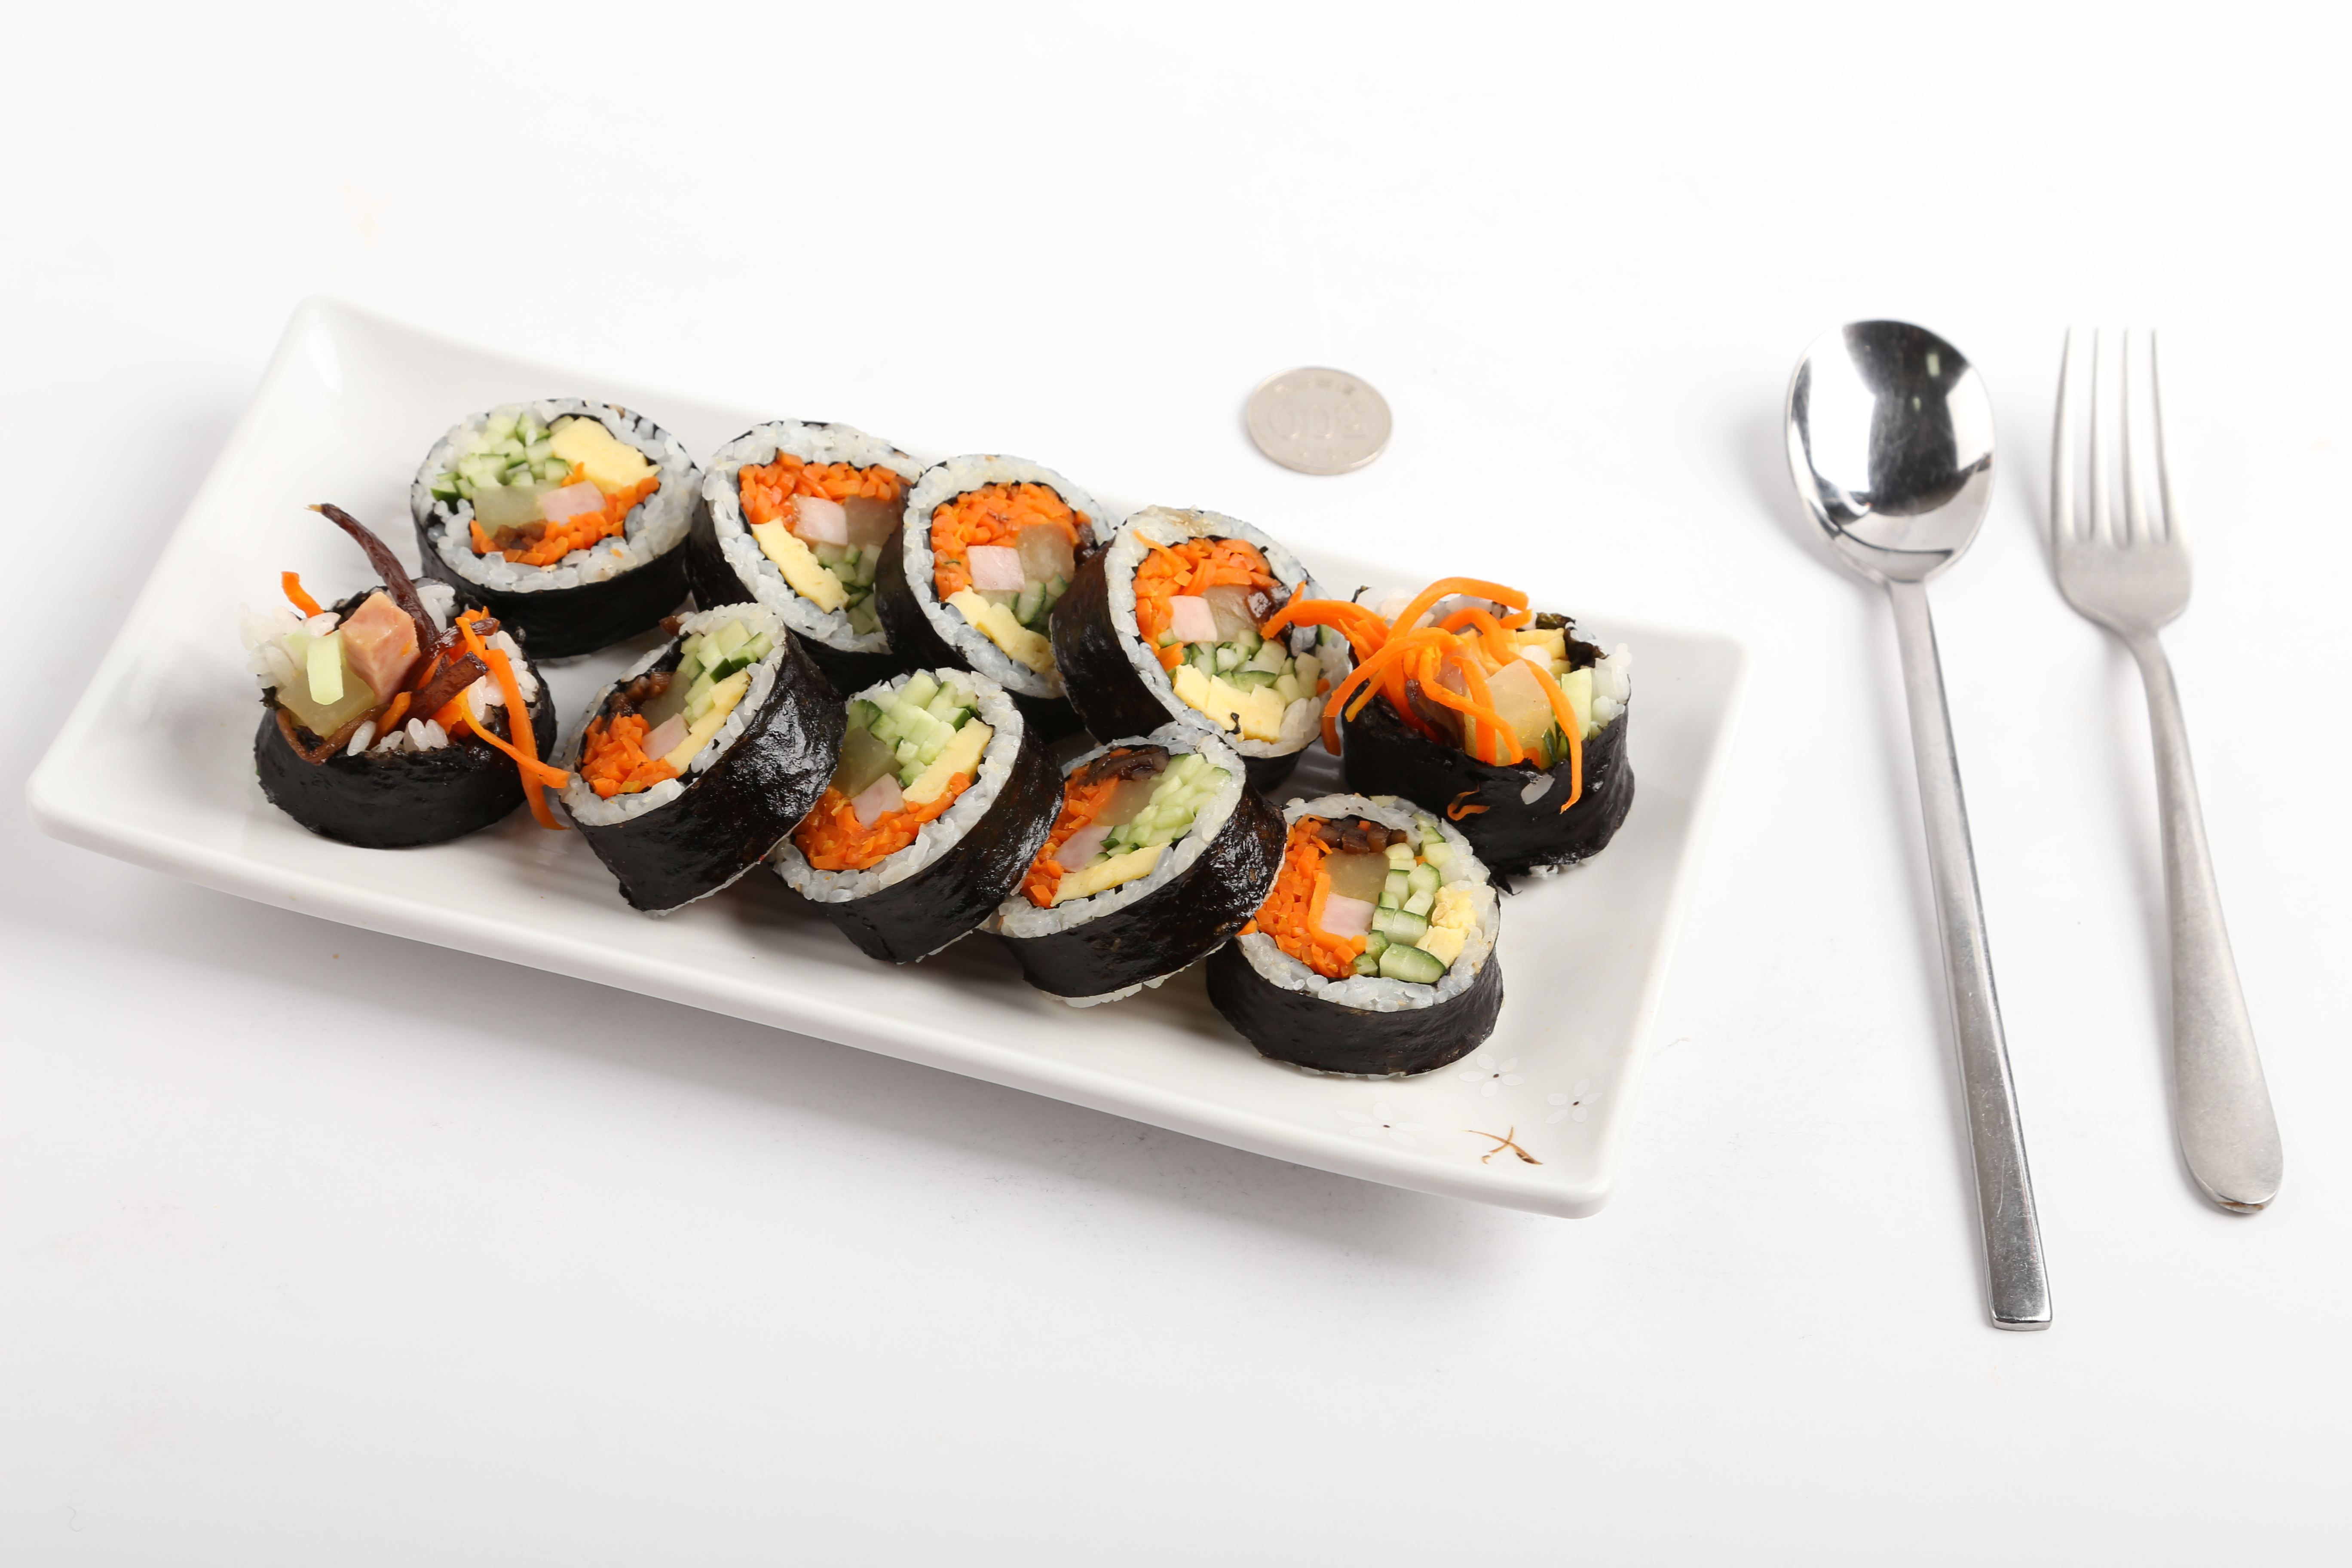dish: (23, 287, 1739, 1214)
ref_coin: (1232, 360, 1398, 481)
ref_fork: (2049, 325, 2193, 688)
ref_spoon: (1778, 310, 1998, 626)
김밥: (245, 392, 1634, 1080)
